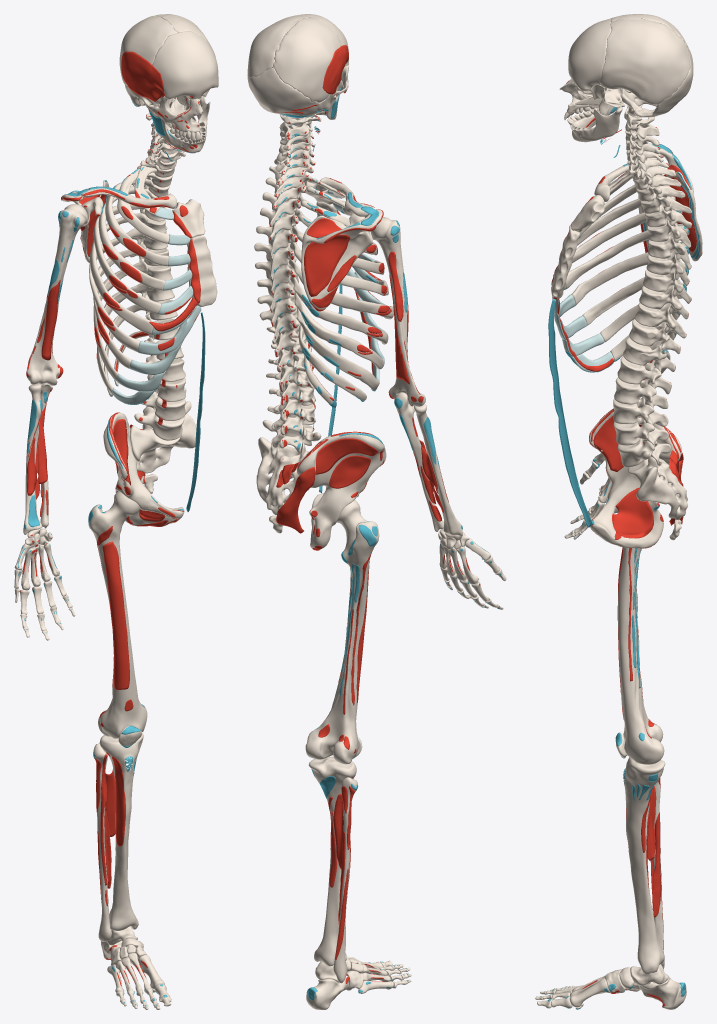
File: insertions-and-origins.glb
The picture shows the model from 3 angles, left to right: view 1: azimuth 30°, elevation 25°; view 2: azimuth 150°, elevation 25°; view 3: azimuth 270°, elevation 25°; orthographic projection. The views are drawn at different scales.
Visible parts, largest first — view 1: Femur.r, Frontal bone, Tibia.r, Humerus.r, Vastus intermedius origin and insertion.r, Hip bone.r, Sacrum, Parietal bone right, Temporalis muscle origin and insertion.r, Pectoralis major origin and insertion.r, Fibula.r, Body of sternum (+35 smaller); view 2: Femur.r, Parietal bone right, Hip bone.r, Tibia.r, Humerus.r, Sacrum, Occipital bone, Scapula.r., Infraspinatus muscle origin and insertion.r, Parietal bone left, Gluteus medius origin and insertion.r, Gluteus maximus origin and insertion.r (+18 smaller); view 3: Parietal bone left, Femur.r, Tibia.r, Hip bone.r, Frontal bone, Sacrum, Obturator internus origin and insertion.r, Mandible bone, Occipital bone, Rib (7th).r, Internal abdominal oblique muscle origin and insertion.r, Lumbar vertebrae (L1) (+39 smaller).
Part boxes in pixels (<box>): Femur.r: <box>88,491,147,738</box>; Frontal bone: <box>152,31,218,99</box>; Tibia.r: <box>99,733,143,930</box>; Humerus.r: <box>27,204,87,385</box>; Vastus intermedius origin and insertion.r: <box>102,541,132,770</box>; Hip bone.r: <box>103,412,184,526</box>; Sacrum: <box>130,413,196,473</box>; Parietal bone right: <box>119,15,177,85</box>; Temporalis muscle origin and insertion.r: <box>121,51,164,101</box>; Pectoralis major origin and insertion.r: <box>61,202,200,350</box>; Fibula.r: <box>93,743,111,941</box>; Body of sternum: <box>187,235,217,306</box>; Femur.r: <box>305,500,379,764</box>; Parietal bone right: <box>273,17,342,102</box>; Hip bone.r: <box>297,432,386,549</box>; Tibia.r: <box>308,756,356,966</box>; Humerus.r: <box>370,217,425,406</box>; Sacrum: <box>256,437,309,515</box>; Occipital bone: <box>248,67,318,117</box>; Scapula.r.: <box>301,209,382,309</box>; Infraspinatus muscle origin and insertion.r: <box>304,225,399,296</box>; Parietal bone left: <box>247,15,309,81</box>; Gluteus medius origin and insertion.r: <box>315,438,378,546</box>; Gluteus maximus origin and insertion.r: <box>276,467,360,602</box>; Parietal bone left: <box>599,18,690,104</box>; Femur.r: <box>618,547,664,764</box>; Tibia.r: <box>624,757,665,974</box>; Hip bone.r: <box>589,407,681,548</box>; Frontal bone: <box>568,18,611,90</box>; Sacrum: <box>628,441,687,520</box>; Obturator internus origin and insertion.r: <box>612,487,653,538</box>; Mandible bone: <box>570,105,622,142</box>; Occipital bone: <box>620,48,693,117</box>; Rib (7th).r: <box>571,242,688,305</box>; Internal abdominal oblique muscle origin and insertion.r: <box>548,298,620,526</box>; Lumbar vertebrae (L1): <box>617,356,671,394</box>.
Bounding box in the file's own units: 0.4097 × 1.7 × 0.2542.
